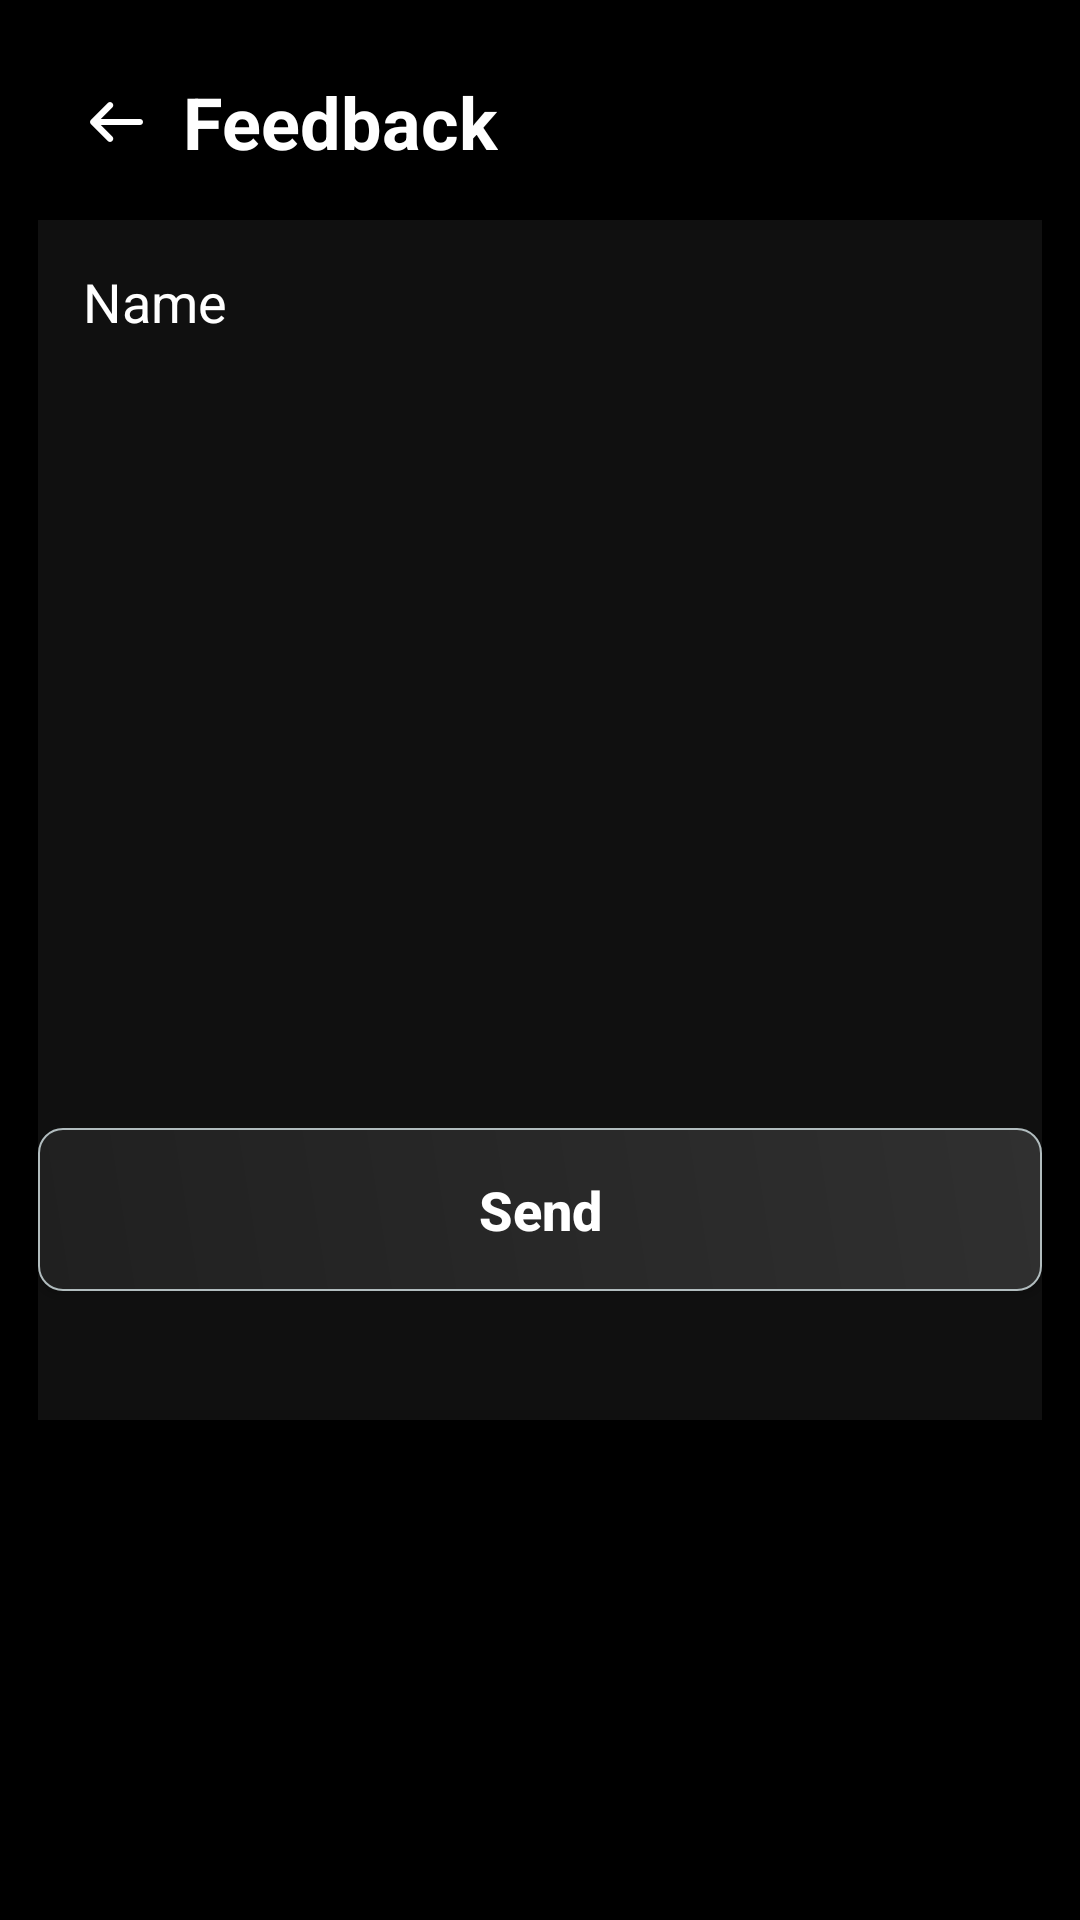

Icons on this 1080px x 1920px Android screen, each with the point to tap as [x,y]:
left arrow: [116,122]
